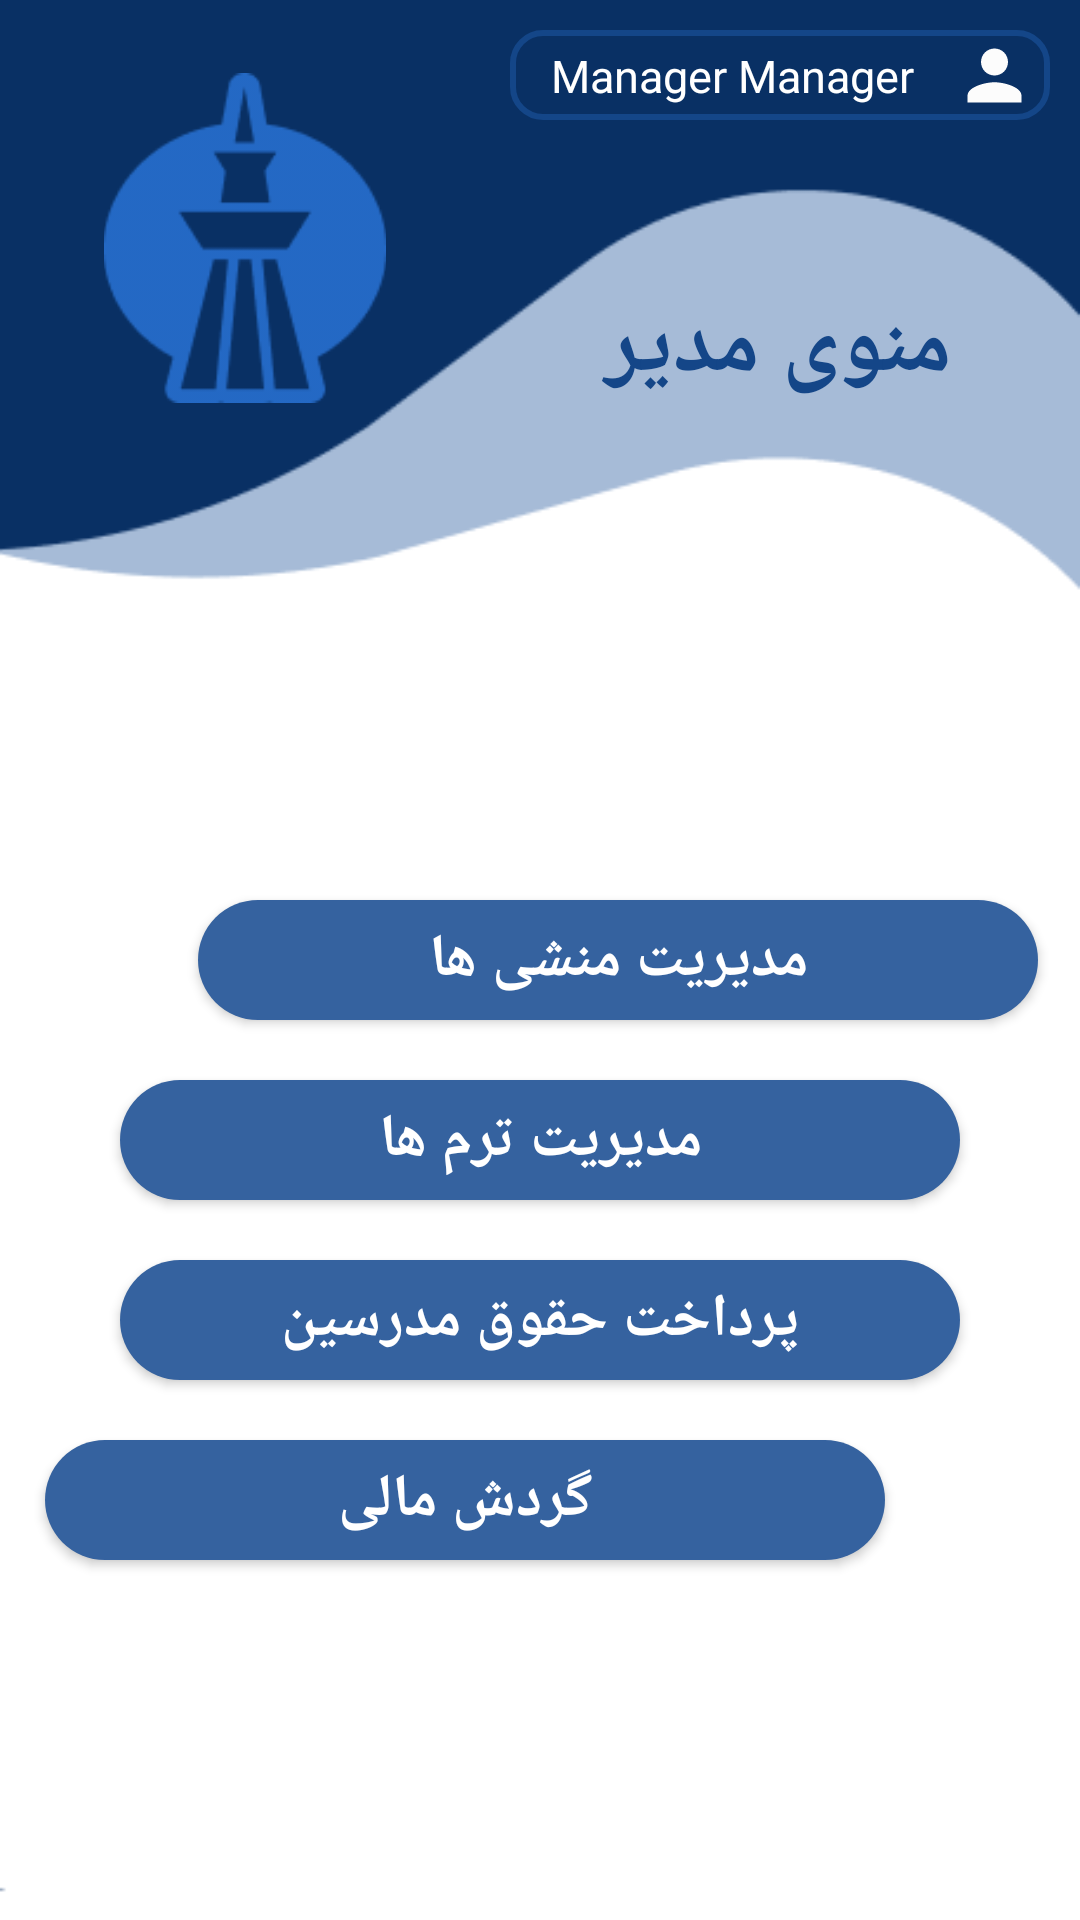

Icons on this 1080*1920 Android screen, each with its box as (x1, y1, x2, y2):
person: (967, 48, 1022, 103)
